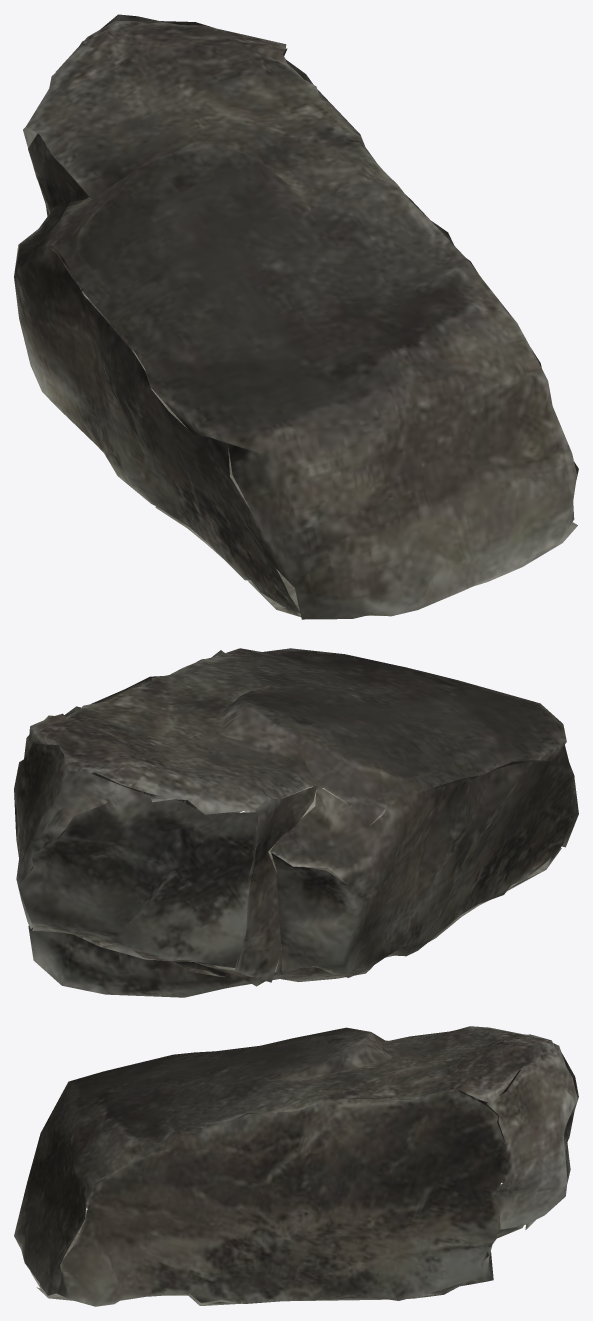
The model's file is rock_c.glb.
3 renders of one model, top to bottom at view 1: azimuth 30°, elevation 25°; view 2: azimuth 150°, elevation 25°; view 3: azimuth 270°, elevation 25°, orthographic. The views are drawn at different scales.
Visible parts, largest first — view 1: rock_07; view 2: rock_07; view 3: rock_07.
Part boxes in pixels (<box>): rock_07: <box>14,14,578,619</box>; rock_07: <box>14,648,578,997</box>; rock_07: <box>14,1026,578,1306</box>.
Size of the model in its own units: 0.5278 by 0.4455 by 1.
1 material, 1 textured.
